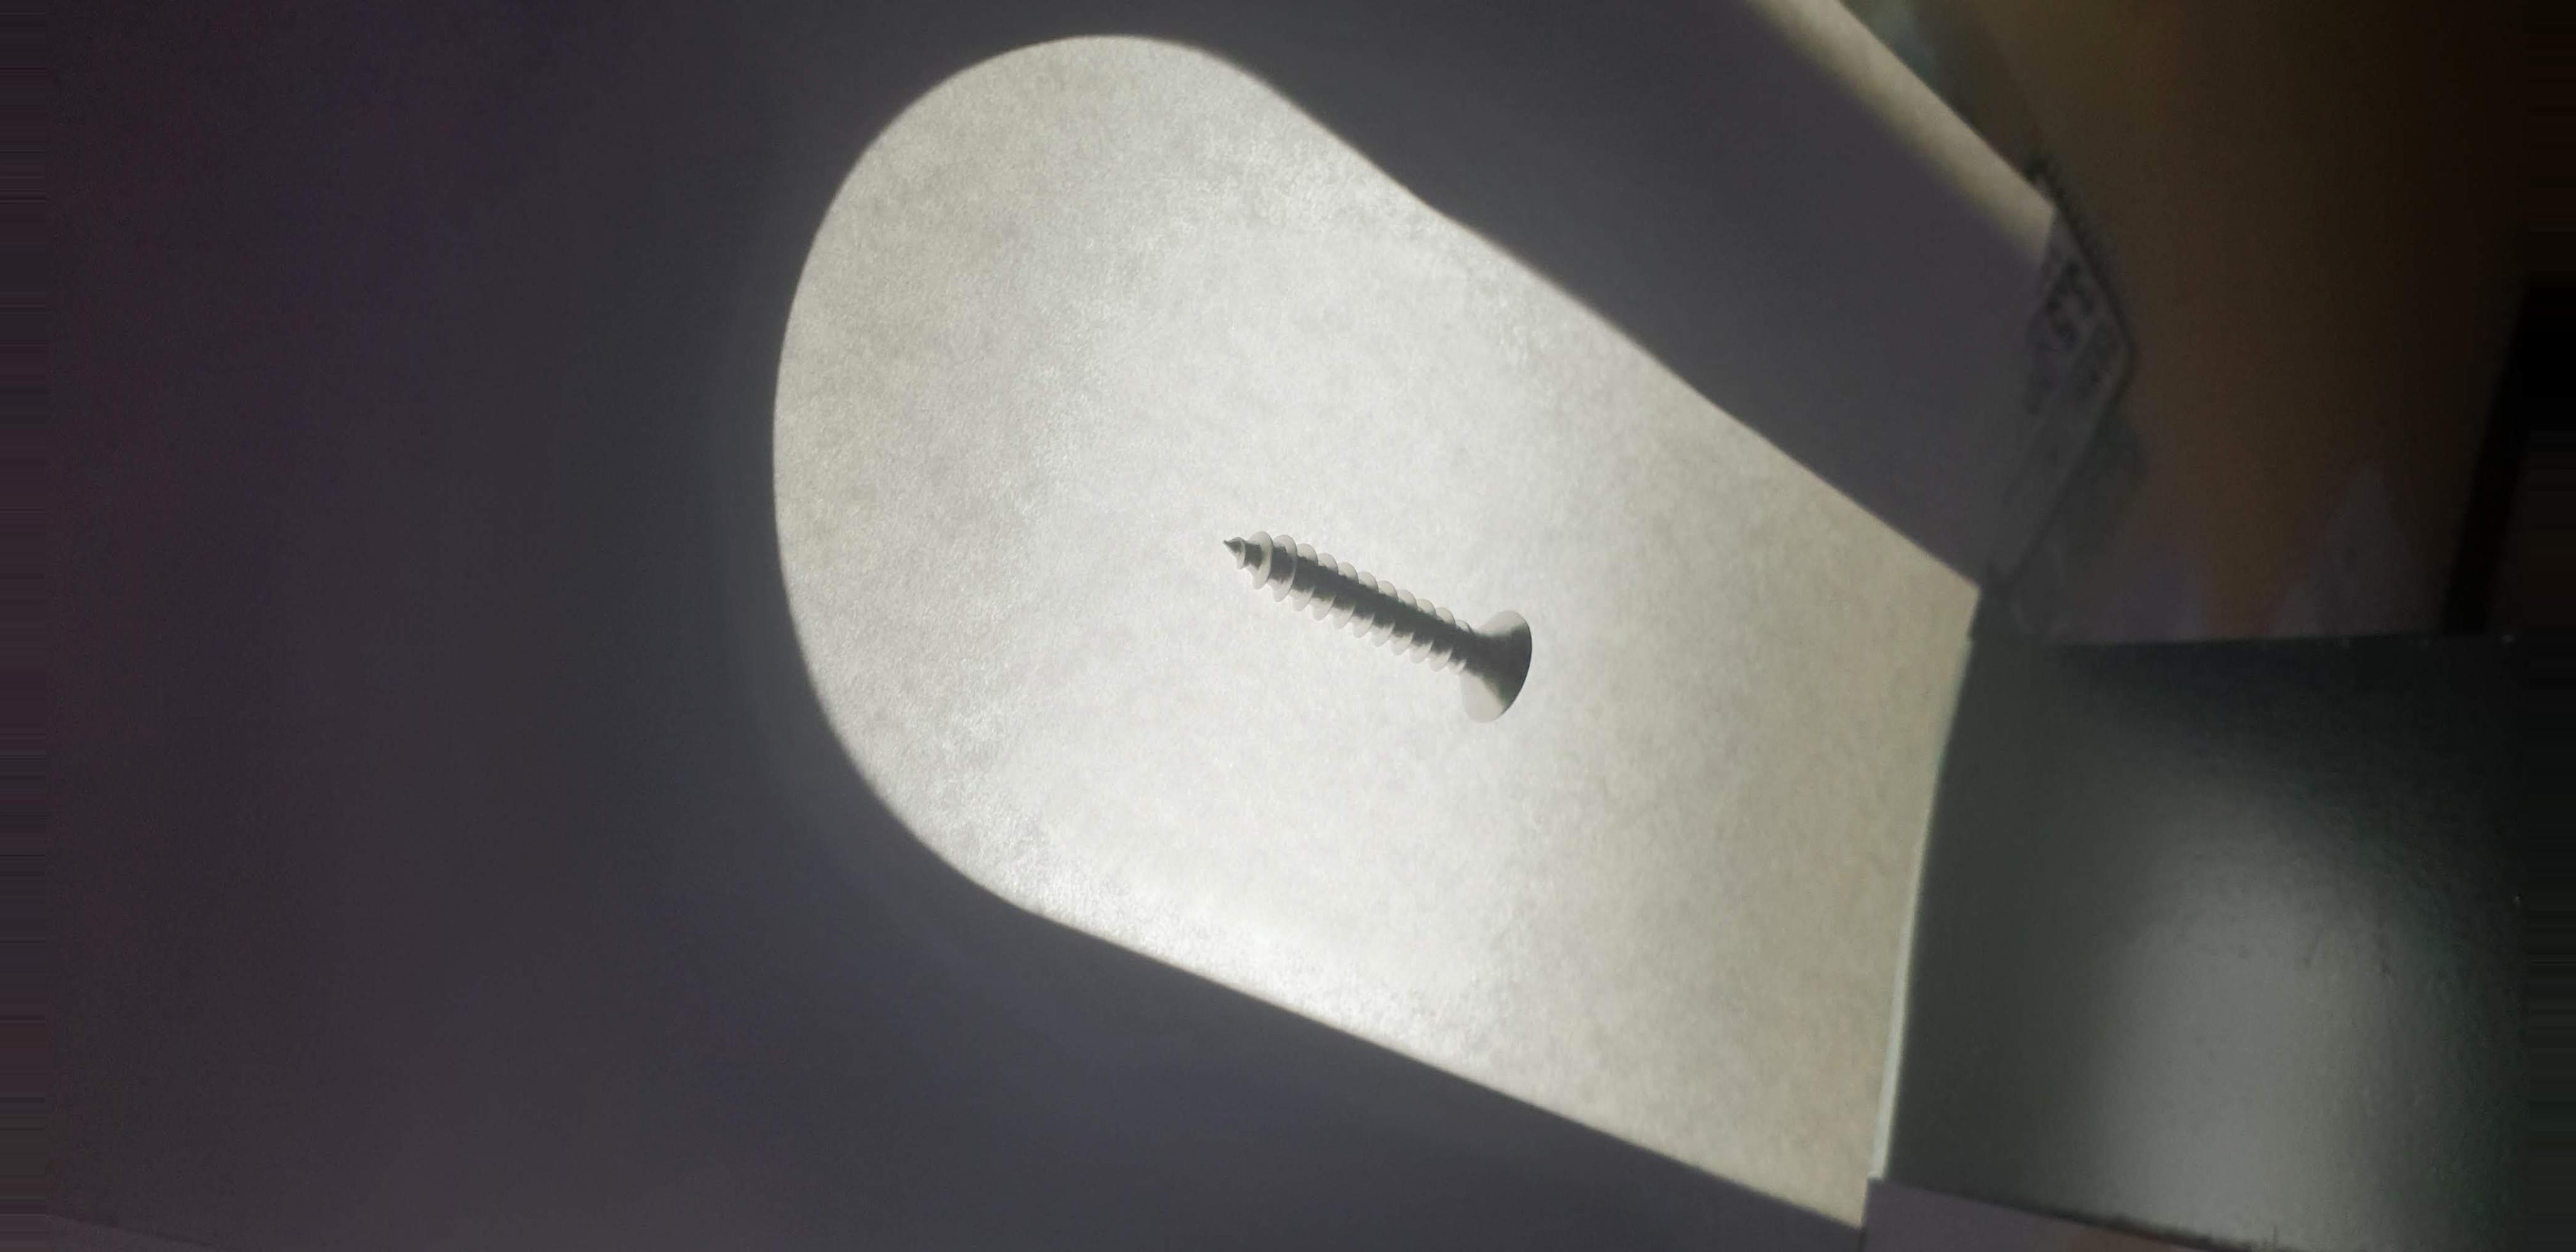S004: (1189, 483, 1587, 746)
